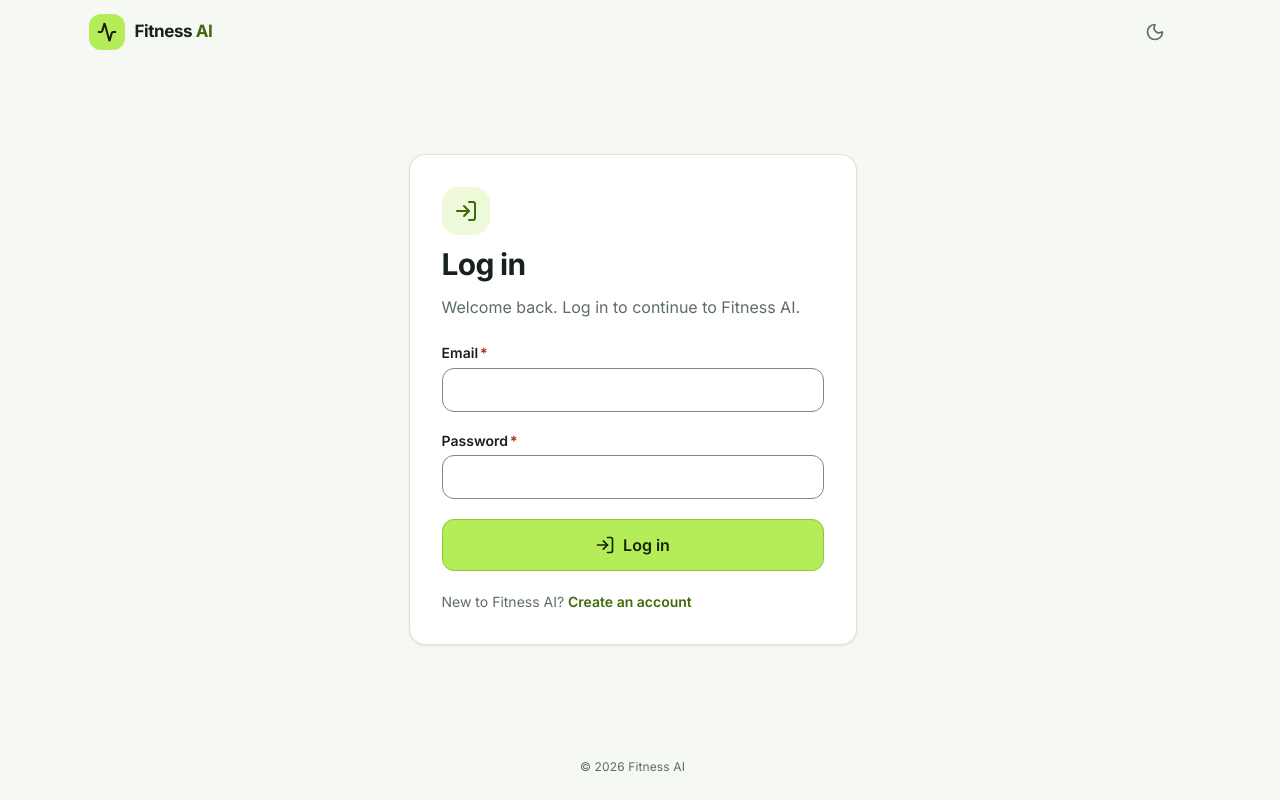
Test: navigation (real routes) › public pages link to each other
The width and height of the screenshot is (1280, 800).
Step 1. Click the link "Create an account" → point(630, 602), box [568,593,692,610]
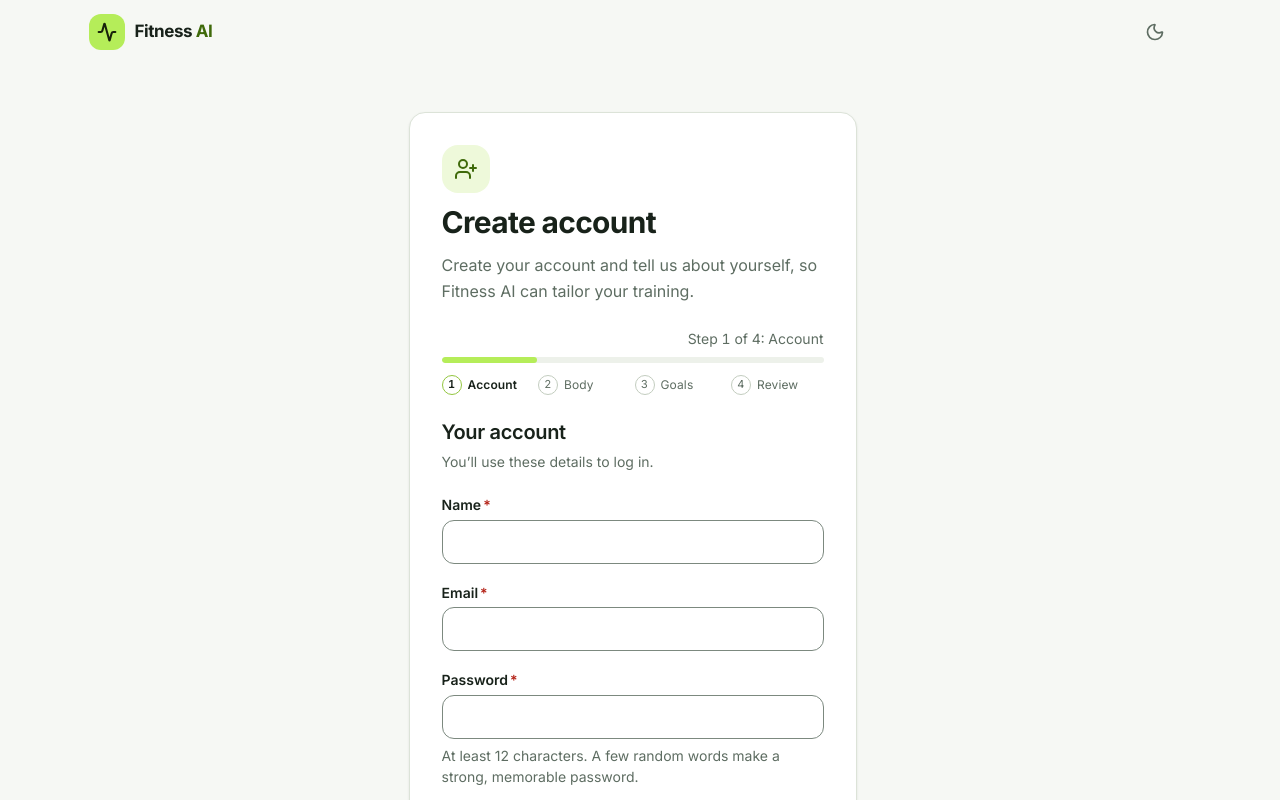
Expected: the heading "Create account" is shown, [442,204,656,240]
